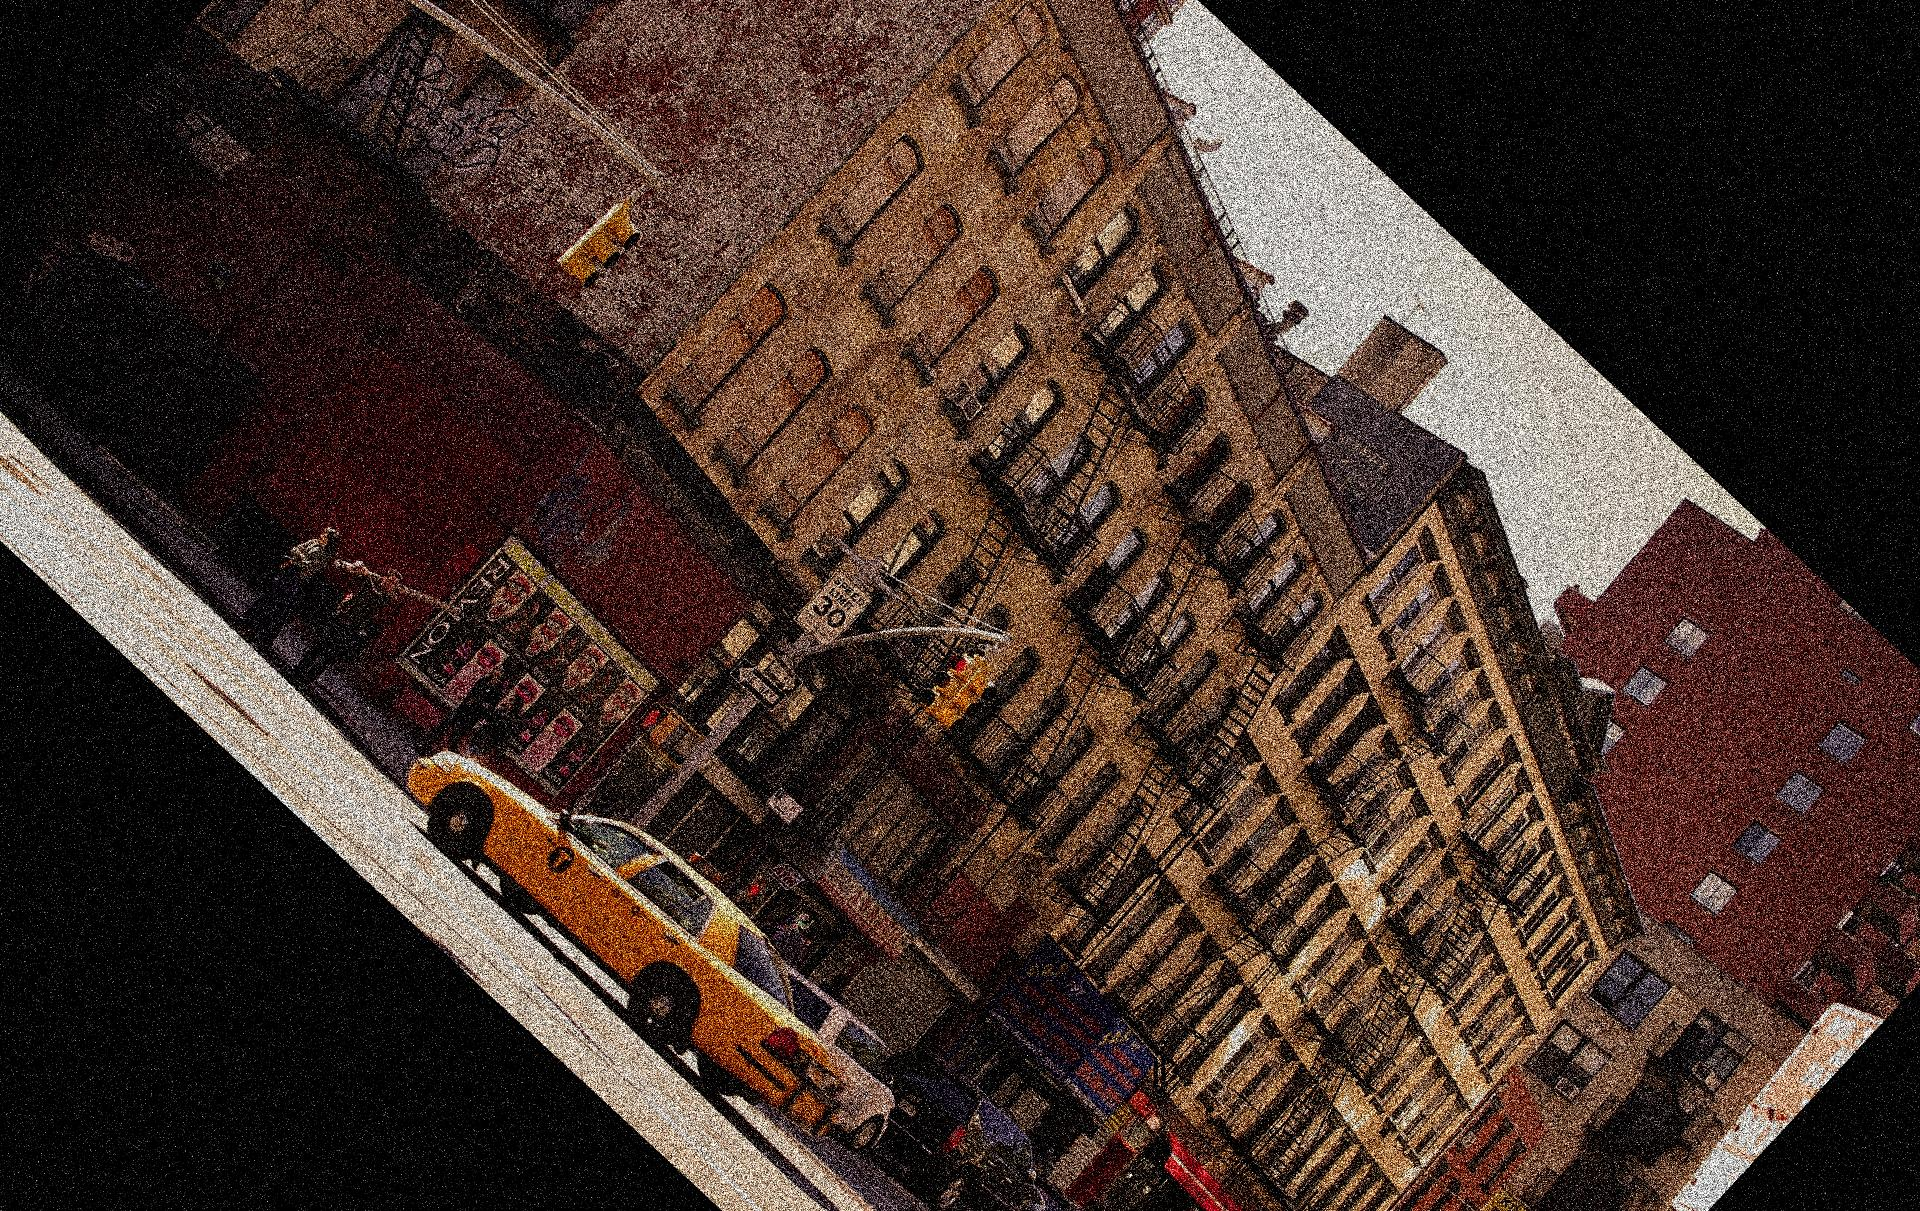taxi: (407, 723, 861, 1130)
